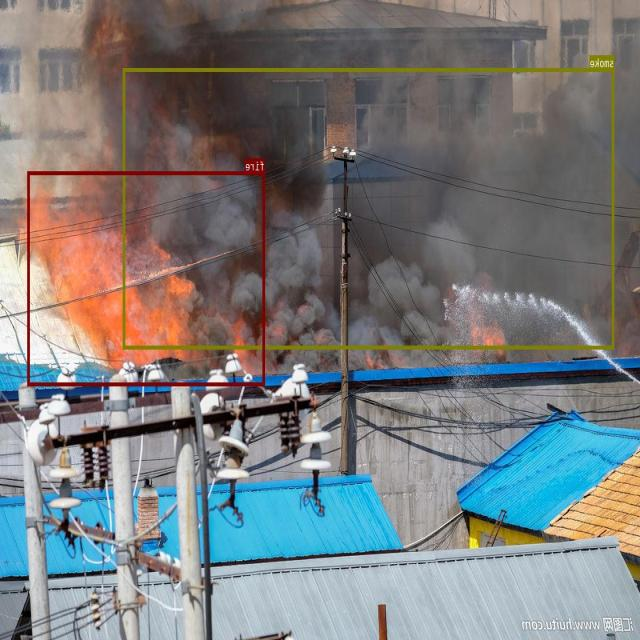fire: (28, 170, 266, 386)
smoke: (123, 68, 615, 348)
